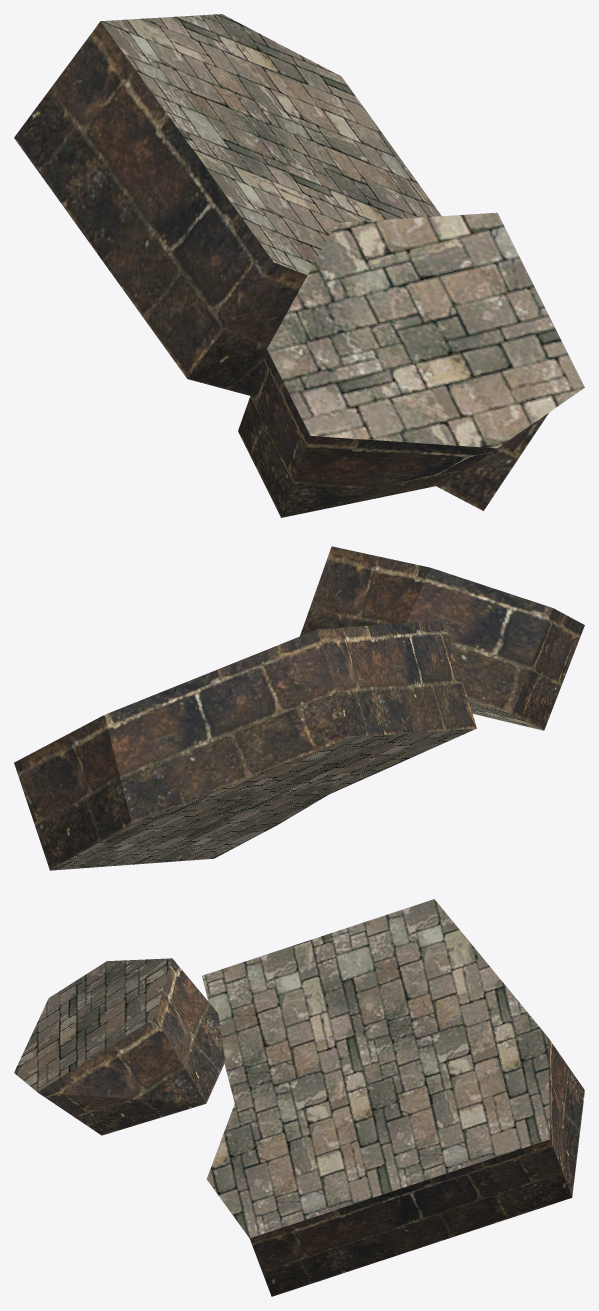
The model's file is ruin_rocks2.glb.
3 views of the same model, one above another, from view 1: azimuth 30°, elevation 25°; view 2: azimuth 150°, elevation 25°; view 3: azimuth 270°, elevation 25° (orthographic). The views are drawn at different scales.
Parts seen in each view (by area): view 1: ruin_rocks2-col; view 2: ruin_rocks2-col; view 3: ruin_rocks2-col.
Boxes of the visible parts, x1,y1,x2,y2 form: ruin_rocks2-col: (14,14,584,517); ruin_rocks2-col: (14,546,584,870); ruin_rocks2-col: (14,899,584,1296).
Bounding box in the file's own units: 3.04 × 3.34 × 5.53.
Materials: 2 (2 with a texture image).
